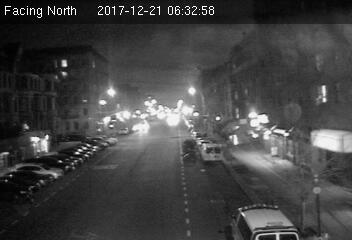police: (227, 199, 293, 240)
truck: (202, 143, 224, 163)
